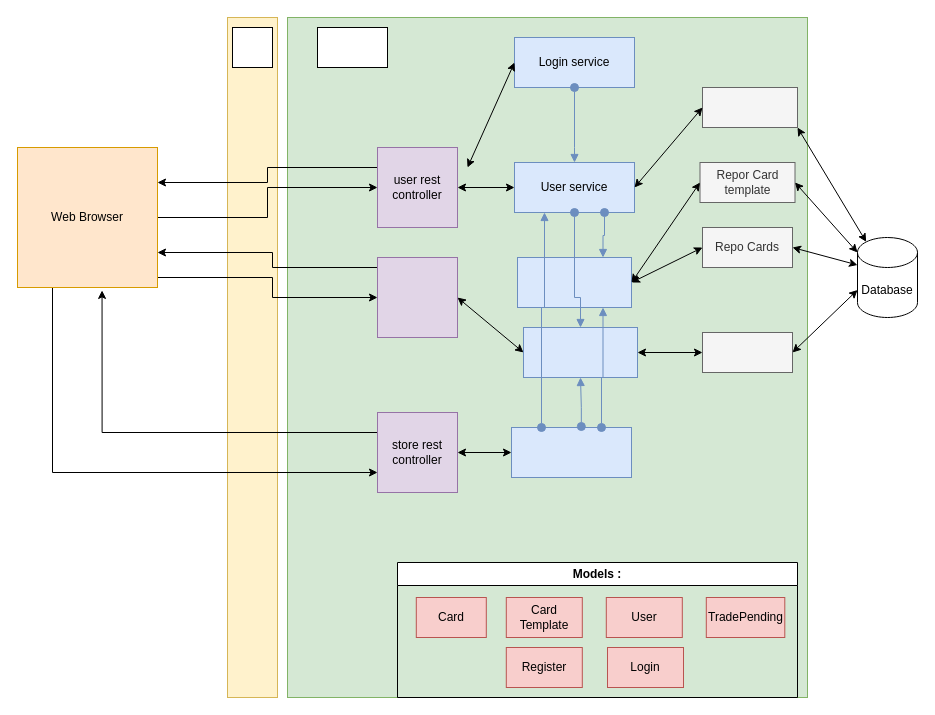
Some shapes in this 935 by 715 pixel diagram are drawn without their labels. Here are the shapes that lost their labels. From the top down, the centre of each, then its label:
At [252,47]: "HTTP Server".
At [352,47]: "Web Server".
At [750,107]: "Repo Users".
At [417,297]: "card rest controller".
At [574,282]: "Card Service".
At [580,352]: "Inventory service".
At [747,352]: "Repo Inventory".
At [571,452]: "Transaction service".
